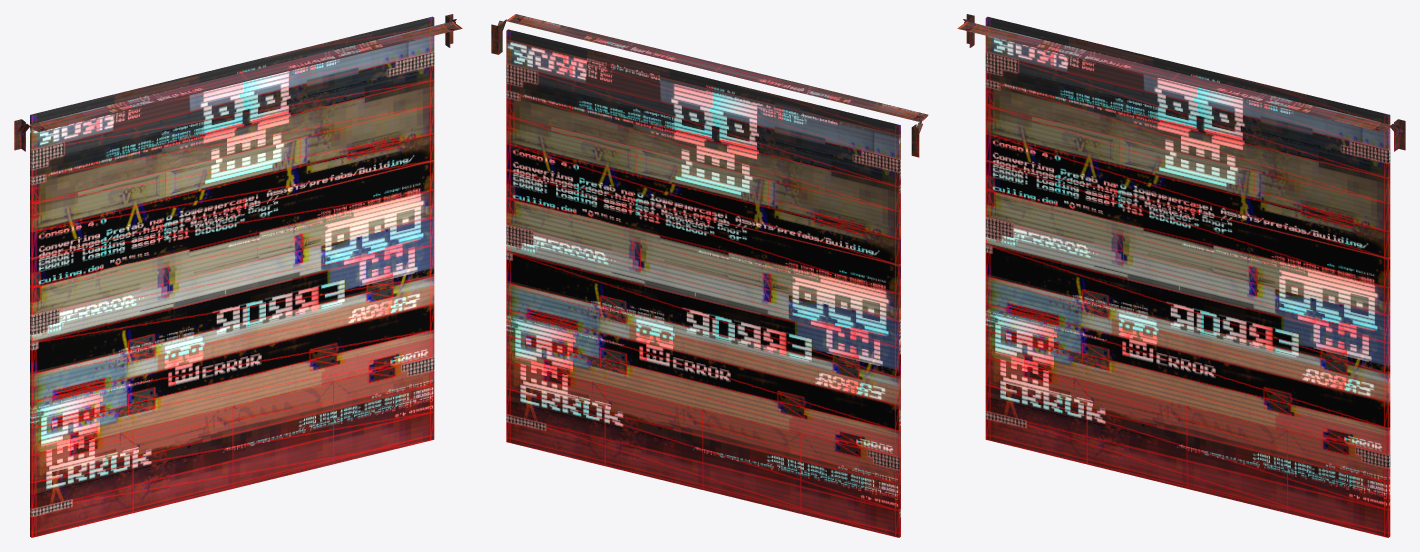
The model's file is corrupted_garage_door_clean.glb.
3 renders of one model, left to right at view 1: azimuth 30°, elevation 25°; view 2: azimuth 150°, elevation 25°; view 3: azimuth 330°, elevation 25°, orthographic. The views are drawn at different scales.
Parts seen in each view (by area): view 1: corrupted_garage_door_clean; view 2: corrupted_garage_door_clean; view 3: corrupted_garage_door_clean.
Boxes of the visible parts, x1=… form: corrupted_garage_door_clean: x1=14, y1=14, x2=462, y2=537; corrupted_garage_door_clean: x1=491, y1=14, x2=928, y2=537; corrupted_garage_door_clean: x1=957, y1=14, x2=1405, y2=537.
Size of the model in its own units: 2.39 by 2.2 by 0.1883.
1 material, 1 textured.
